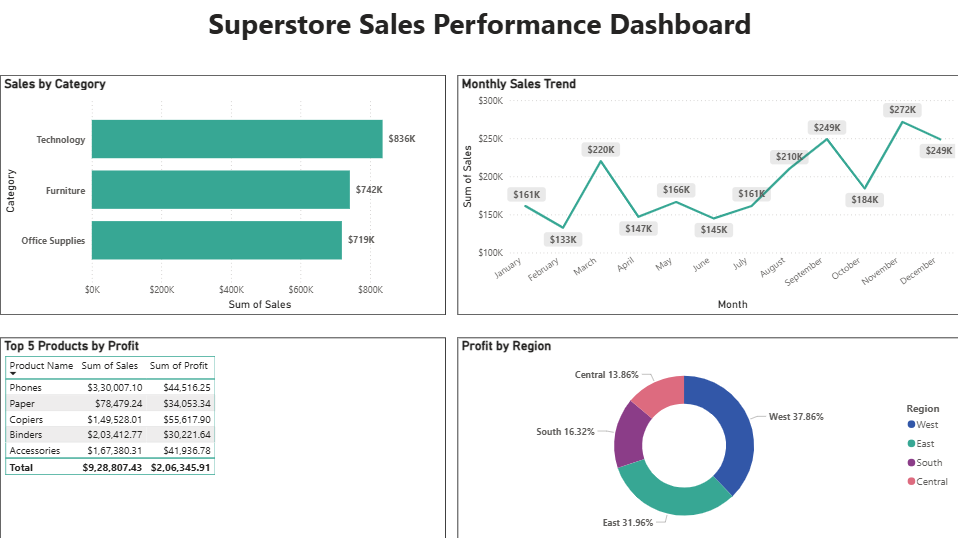

This screenshot's page, from the dashboard's own definition file:
{"tool":"powerbi","page":{"name":"Page 1","canvas":[1280,720],"ordinal":0},"visuals":[{"type":"clusteredBarChart","title":"Sales by Category","fields":{"Category":["Sample - Superstore.Category"],"Y":["Sum(Sample - Superstore.Sales)"]},"box":[0,100,594,320],"z":0},{"type":"lineChart","title":"Monthly Sales Trend","fields":{"Category":["Sample - Superstore.Order Date.Variation.Date Hierarchy.Year","Sample - Superstore.Order Date.Variation.Date Hierarchy.Quarter","Sample - Superstore.Order Date.Variation.Date Hierarchy.Month","Sample - Superstore.Order Date.Variation.Date Hierarchy.Day"],"Y":["Sum(Sample - Superstore.Sales)"]},"box":[610,100,670,320],"z":1000},{"type":"tableEx","title":"Top 5 Products by Profit","fields":{"Values":["Sample - Superstore.Sub-Category","Sum(Sample - Superstore.Sales)","Sum(Sample - Superstore.Profit)"]},"box":[0,450,594,270],"z":2000},{"type":"donutChart","title":"Profit by Region","fields":{"Category":["Sample - Superstore.Region"],"Y":["Sum(Sample - Superstore.Profit)"]},"box":[610,450,670,270],"z":2001},{"type":"textbox","box":[0,0,1280,84],"z":2002}]}

Visuals, with their boxes in screenshot pixels (x1, y1, x2, y2), scaled from the page's 1280x720 canvas onto the 958x538 screenshot:
"Sales by Category" clusteredBarChart: 0:75:445:314
"Monthly Sales Trend" lineChart: 457:75:957:314
"Top 5 Products by Profit" tableEx: 0:336:445:537
"Profit by Region" donutChart: 457:336:957:537
textbox: 0:0:957:63
